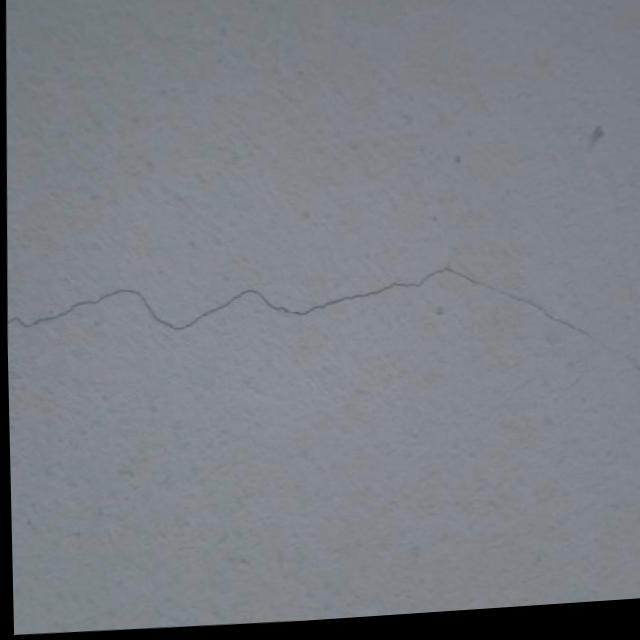Crack: (15, 238, 640, 434)
